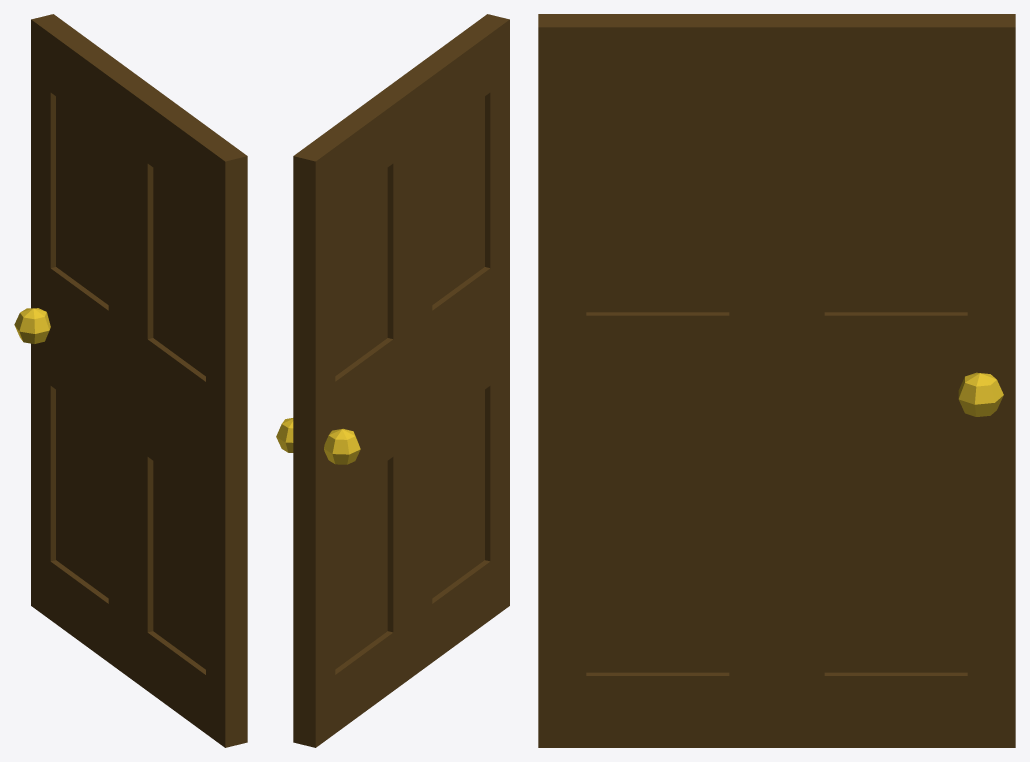
The model's file is door.fbx.
3 views of the same model, side by side, from view 1: azimuth 30°, elevation 25°; view 2: azimuth 150°, elevation 25°; view 3: azimuth 270°, elevation 25° (orthographic). The views are drawn at different scales.
Visible parts, largest first — view 1: Cube; view 2: Cube; view 3: Cube.
Boxes of the visible parts, x1,y1,x2,y2 form: Cube: [14, 14, 247, 747]; Cube: [276, 14, 509, 747]; Cube: [538, 14, 1015, 747].
Size of the model in its own units: 142 by 1000 by 600.
